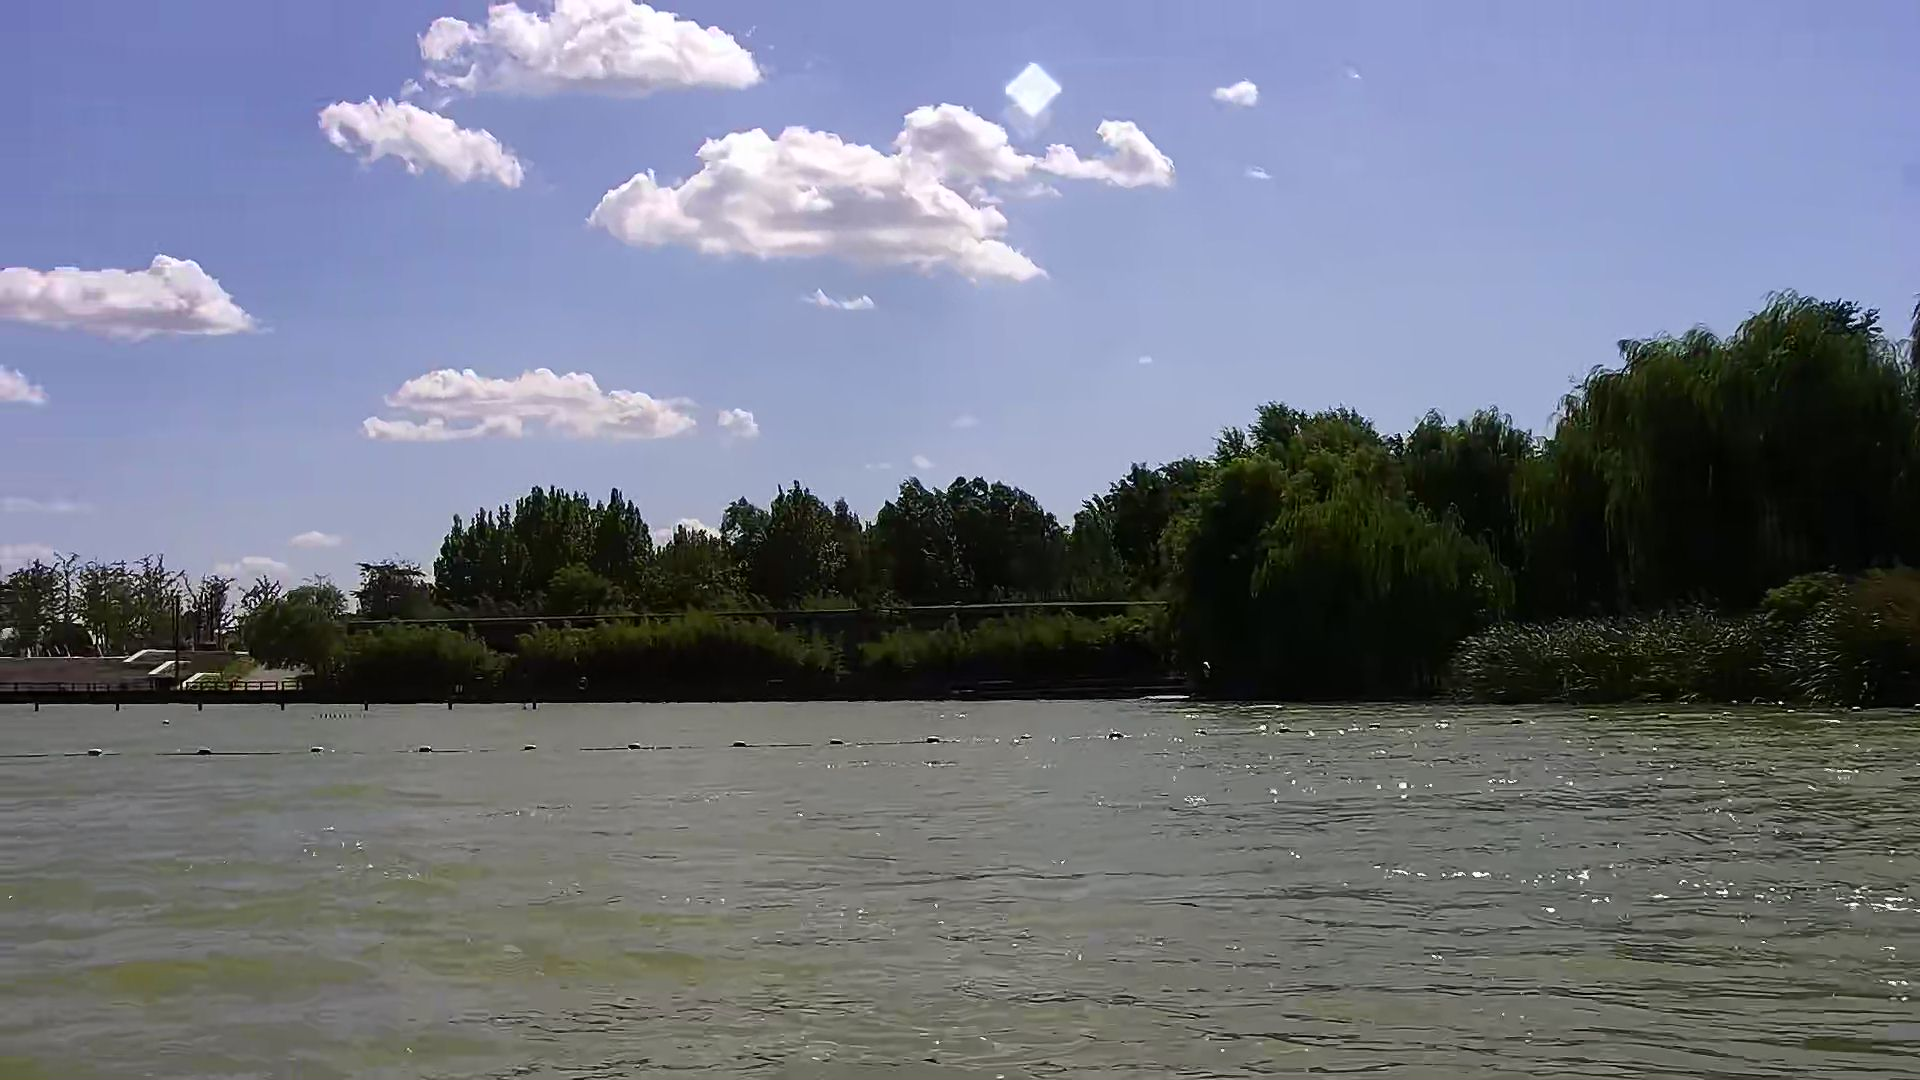ball: (80, 738, 109, 762), (724, 732, 752, 754), (512, 737, 545, 756), (305, 740, 328, 764), (194, 738, 216, 764), (410, 742, 436, 762), (622, 735, 647, 754)
harbor: (1, 659, 307, 702)
